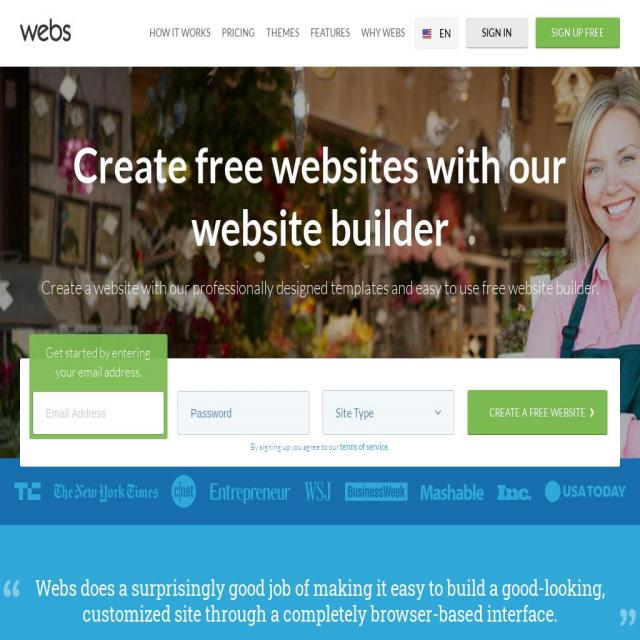button: (468, 390, 608, 435), (324, 391, 454, 434), (540, 474, 629, 515), (50, 476, 162, 508), (206, 474, 292, 514), (536, 17, 620, 48), (417, 477, 490, 512), (141, 17, 218, 48), (340, 476, 410, 510), (466, 17, 528, 48), (5, 472, 46, 510), (492, 478, 538, 511), (355, 20, 409, 48), (300, 474, 338, 512), (305, 20, 356, 48), (415, 18, 458, 49), (260, 19, 304, 48), (168, 472, 200, 511), (220, 17, 260, 48), (20, 18, 71, 42)
field: (32, 391, 164, 435), (178, 391, 310, 435)
